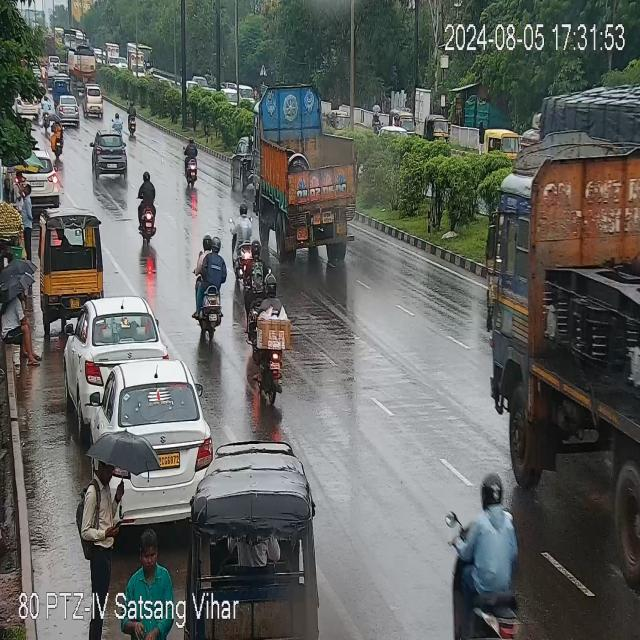2-wheelers: (449, 459, 519, 640), (192, 232, 229, 339), (134, 172, 160, 244), (181, 138, 203, 189)
auto: (190, 434, 316, 586), (38, 210, 108, 318), (52, 96, 82, 128), (484, 132, 520, 156)
car: (84, 367, 210, 481), (65, 298, 165, 402), (88, 132, 130, 180)
pedestrian: (99, 436, 163, 540), (122, 528, 178, 596), (0, 290, 44, 371), (0, 248, 34, 351), (15, 180, 37, 250)
truck: (484, 127, 640, 479), (254, 90, 352, 250)
